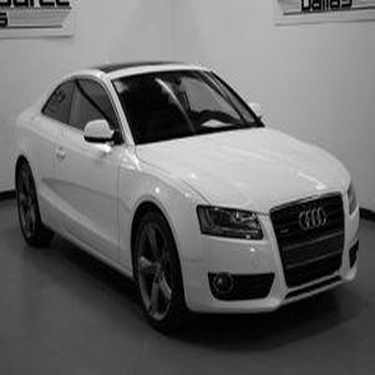car: (9, 53, 367, 340)
